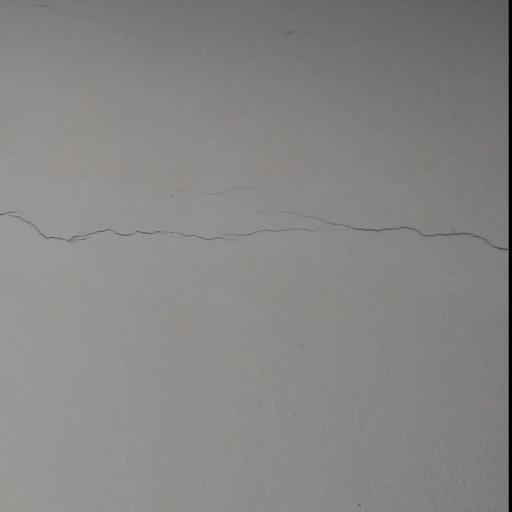minor_crack: (0, 170, 512, 273)
